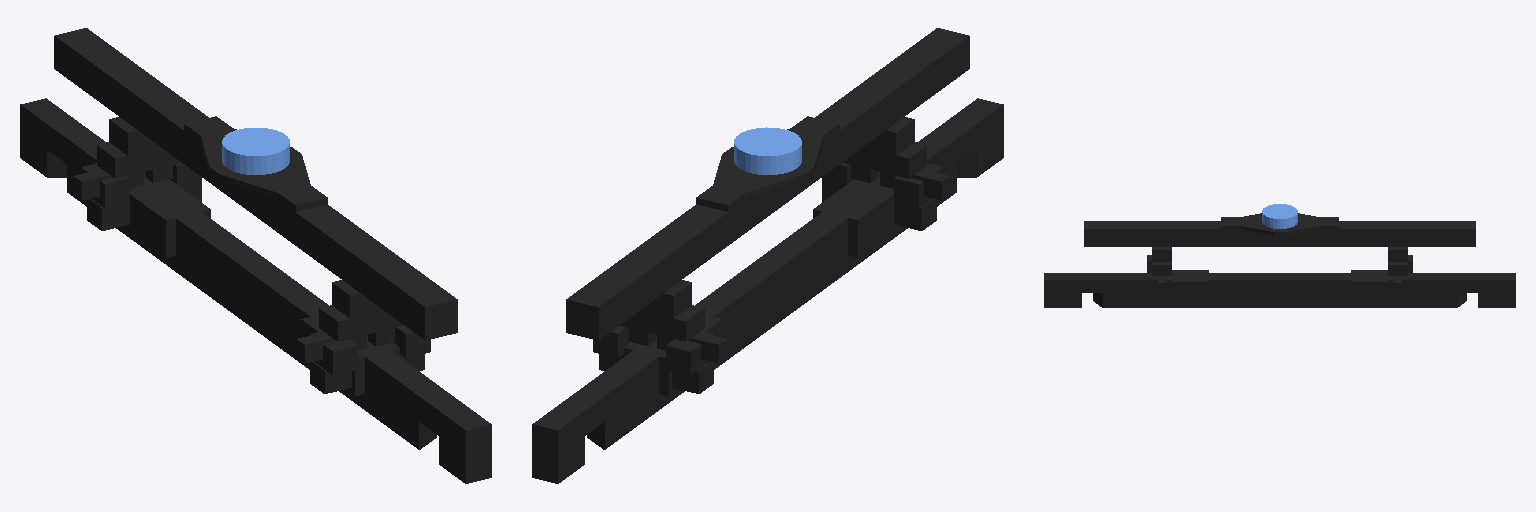
URDF robot description (tool__delta_assembly_task):
<?xml version="1.0" ?>
<robot name="tool__delta_assembly_task">

    <!-- Import Rviz colors -->
    <material name="Grey">
        <color rgba="0.2 0.2 0.2 1."/>
    </material>
    <material name="Orange">
        <color rgba="1.0 0.423529411765 0.0392156862745 0.5"/>
    </material>
    <material name="Blue">
        <color rgba="0.5 0.7 1.0 0.5"/>
    </material>
    <material name="beam_color">
        <color rgba="0.72 0.60 0.30 1.0"/>
    </material>


    <!-- Joint from Base to FT-Sensor Below -->
    <joint name="joint_ft" type="fixed">
        <parent link="base"/>
        <child link="ft_sensor"/>
        <origin rpy="0 0 0 " xyz="0.0 0.0 0.0"/>
        <dynamics damping="0.5"/>
    </joint>

    <!-- Joint from FT-Sensor to Gripper-Beam Below -->
    <joint name="joint_gripper" type="fixed">
        <parent link="ft_sensor"/>
        <child link="gripper_double_notch_beam"/>
        <origin rpy="0 0 0 " xyz="0.0 0.0 0.0"/>
        <dynamics damping="0.5"/>
    </joint>

    <!-- Joint from Gripper-Beam to Virtual Member Below -->
    <joint name="joint_member" type="fixed">
        <parent link="gripper_double_notch_beam"/>
        <child link="member"/>
        <!-- Offset 40 mm (beam half-depth) + 155 mm (beam offset from world origin)-->
        <origin rpy="0 0 0 " xyz="0.0 0.0 -0.195"/>
        <dynamics damping="0.5"/>
    </joint>


    <!-- Virtual Base Link -->
    <link name="base">
      <inertial>
          <origin rpy="0 0 0" xyz="0 0 0"/>
          <mass value="0.001"/>
          <inertia ixx="0.001" ixy="0" ixz="0" iyy="0.001" iyz="0" izz="0.001"/>
      </inertial>
    </link>

    <!-- Virtual Member Link to Computer Distance to Target -->
    <link name="member">
      <inertial>
          <origin rpy="0 0 0" xyz="0 0 0"/>
          <mass value="0.01"/>
          <inertia ixx="0.001" ixy="0" ixz="0" iyy="0.001" iyz="0" izz="0.001"/>
      </inertial>
    </link>

    <!-- FT-Sensor Link -->
    <link name="ft_sensor">
    <inertial>
          <mass value="1.964"/>
          <inertia ixx="0.001" ixy="0" ixz="0" iyy="0.001" iyz="0" izz="0.001"/>
    </inertial>
    <visual>
        <material name="Blue"/>
        <geometry>
          <mesh filename="sensor/meshes/visual/ft_sensor.stl"/>
        </geometry>
    </visual>
    <collision>
        <geometry>
          <mesh filename="sensor/meshes/collision/ft_sensor.stl"/>
        </geometry>
    </collision>
    </link>

    <!-- EF Link -->
    <link name="gripper_double_notch_beam">
        <inertial>
            <origin rpy="0 0 0" xyz="0.0 0.0 0.09963736"/>
            <mass value="8.56"/>
            <inertia ixx="0.01" ixy="0" ixz="0" iyy="0.01" iyz="0" izz="0.01"/>
        </inertial>
        <visual>
            <geometry>
                <mesh filename="gripper_double_notch_delta_beam/meshes/visual/gripper_double_notch_delta_beam.stl"/>
            </geometry>
            <material name="Grey"/>
        </visual>
        <collision>
            <geometry>
                <mesh filename="gripper_double_notch_delta_beam/meshes/collision/gripper_00.stl"/>
            </geometry>
        </collision>
        <collision>
            <geometry>
                <mesh filename="gripper_double_notch_delta_beam/meshes/collision/gripper_01.stl"/>
            </geometry>
        </collision>
        <collision>
            <geometry>
                <mesh filename="gripper_double_notch_delta_beam/meshes/collision/gripper_02.stl"/>
            </geometry>
        </collision>
        <collision>
            <geometry>
                <mesh filename="gripper_double_notch_delta_beam/meshes/collision/gripper_03.stl"/>
            </geometry>
        </collision>
        <collision>
            <geometry>
                <mesh filename="gripper_double_notch_delta_beam/meshes/collision/gripper_04.stl"/>
            </geometry>
        </collision>
        <collision>
            <geometry>
                <mesh filename="gripper_double_notch_delta_beam/meshes/collision/gripper_05.stl"/>
            </geometry>
        </collision>
        <collision>
            <geometry>
                <mesh filename="gripper_double_notch_delta_beam/meshes/collision/gripper_06.stl"/>
            </geometry>
        </collision>
        <collision>
            <geometry>
                <mesh filename="gripper_double_notch_delta_beam/meshes/collision/gripper_07.stl"/>
            </geometry>
        </collision>
        <collision>
            <geometry>
                <mesh filename="gripper_double_notch_delta_beam/meshes/collision/gripper_08.stl"/>
            </geometry>
        </collision>
        <collision>
            <geometry>
                <mesh filename="gripper_double_notch_delta_beam/meshes/collision/gripper_09.stl"/>
            </geometry>
        </collision>
        <collision>
            <geometry>
                <mesh filename="gripper_double_notch_delta_beam/meshes/collision/gripper_10.stl"/>
            </geometry>
        </collision>
        <collision>
            <geometry>
                <mesh filename="gripper_double_notch_delta_beam/meshes/collision/gripper_11.stl"/>
            </geometry>
        </collision>
        <collision>
            <geometry>
                <mesh filename="gripper_double_notch_delta_beam/meshes/collision/gripper_12.stl"/>
            </geometry>
        </collision>
        <collision>
            <geometry>
                <mesh filename="gripper_double_notch_delta_beam/meshes/collision/gripper_13.stl"/>
            </geometry>
        </collision>
        <collision>
            <geometry>
                <mesh filename="gripper_double_notch_delta_beam/meshes/collision/gripper_14.stl"/>
            </geometry>
        </collision>
        <collision>
            <geometry>
                <mesh filename="gripper_double_notch_delta_beam/meshes/collision/gripper_15.stl"/>
            </geometry>
        </collision>
        <collision>
            <geometry>
                <mesh filename="gripper_double_notch_delta_beam/meshes/collision/gripper_16.stl"/>
            </geometry>
        </collision>
        <collision>
            <geometry>
                <mesh filename="gripper_double_notch_delta_beam/meshes/collision/gripper_17.stl"/>
            </geometry>
        </collision>
        <collision>
            <geometry>
                <mesh filename="gripper_double_notch_delta_beam/meshes/collision/gripper_18.stl"/>
            </geometry>
        </collision>
        <collision>
            <geometry>
                <mesh filename="gripper_double_notch_delta_beam/meshes/collision/gripper_19.stl"/>
            </geometry>
        </collision>
        <collision>
            <geometry>
                <mesh filename="gripper_double_notch_delta_beam/meshes/collision/gripper_20.stl"/>
            </geometry>
        </collision>
        <collision>
            <geometry>
                <mesh filename="gripper_double_notch_delta_beam/meshes/collision/gripper_21.stl"/>
            </geometry>
        </collision>
        <collision>
            <geometry>
                <mesh filename="gripper_double_notch_delta_beam/meshes/collision/beam_13C_00.stl"/>
            </geometry>
        </collision>
        <collision>
            <geometry>
                <mesh filename="gripper_double_notch_delta_beam/meshes/collision/beam_13C_01.stl"/>
            </geometry>
        </collision>
        <collision>
            <geometry>
                <mesh filename="gripper_double_notch_delta_beam/meshes/collision/beam_13C_02.stl"/>
            </geometry>
        </collision>
        <collision>
            <geometry>
                <mesh filename="gripper_double_notch_delta_beam/meshes/collision/beam_13C_03.stl"/>
            </geometry>
        </collision>
        <collision>
            <geometry>
                <mesh filename="gripper_double_notch_delta_beam/meshes/collision/beam_13C_04.stl"/>
            </geometry>
        </collision>
    </link>
</robot>

--- What the picture shows (computed from the rendered views, not written in the file) ---
Views: 3 orthographic renders of the robot side by side, from view 1: azimuth 30°, elevation 25°; view 2: azimuth 150°, elevation 25°; view 3: azimuth 270°, elevation 25°.
Robot: tool__delta_assembly_task — 4 links, 3 joints (3 fixed); root link base; default pose: all joints at 0.
Links seen in each view (by area): view 1: gripper_double_notch_beam, ft_sensor; view 2: gripper_double_notch_beam, ft_sensor; view 3: gripper_double_notch_beam, ft_sensor.
Link boxes in pixels (x1,y1,x2,y2): gripper_double_notch_beam: [20, 28, 491, 483]; ft_sensor: [222, 128, 289, 174]; gripper_double_notch_beam: [532, 28, 1003, 483]; ft_sensor: [734, 127, 801, 174]; gripper_double_notch_beam: [1044, 213, 1515, 307]; ft_sensor: [1262, 204, 1297, 228].
Bounding box of the posed robot: 0.208 × 1.2 × 0.262 m (x, y, z).
2 mesh visuals loaded from 2 distinct referenced files (2 binary STL).
